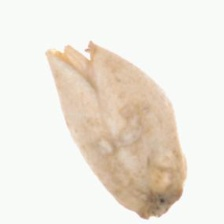L1: (45, 40, 100, 88), (139, 187, 184, 220)
L2: (46, 40, 187, 220)
